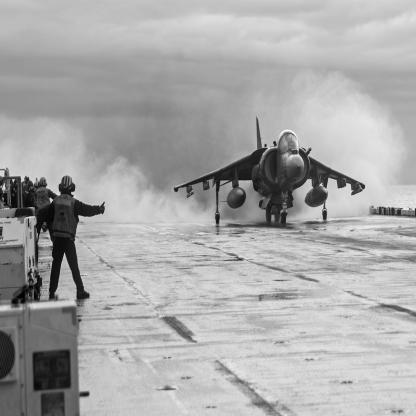AV8B: (175, 117, 367, 225)
